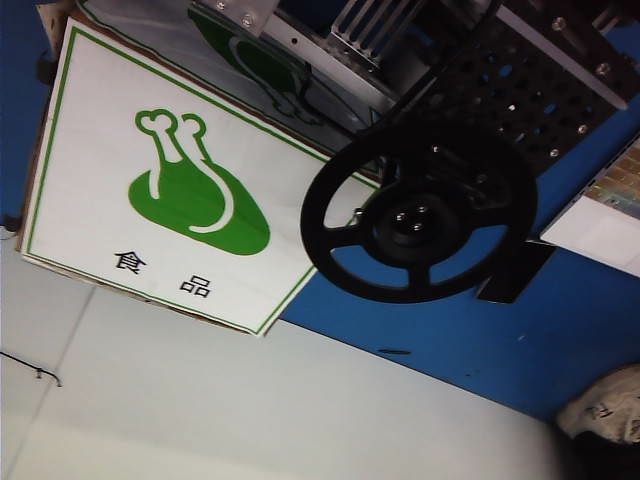Cube_food: (108, 102, 273, 303)
